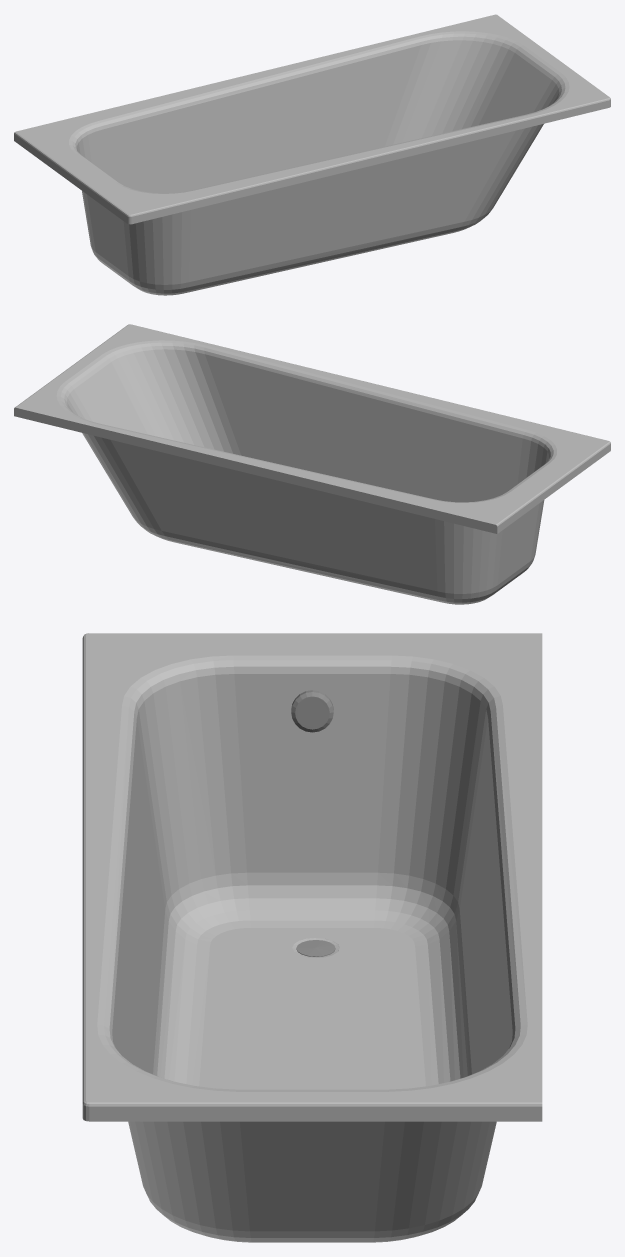
The model's file is AEC_29911.glb.
The picture shows the model from 3 angles, top to bottom: view 1: azimuth 30°, elevation 25°; view 2: azimuth 150°, elevation 25°; view 3: azimuth 270°, elevation 25°; orthographic projection. The views are drawn at different scales.
Parts seen in each view (by area): view 1: 0; view 2: 0; view 3: 0.
Part boxes in pixels (left/top/right/bottom): 0: left=14, top=14, right=610, bottom=295; 0: left=14, top=324, right=610, bottom=604; 0: left=82, top=633, right=542, bottom=1242.
Bounding box in the file's own units: 1.7 × 0.3999 × 0.7.
Materials: 1 (1 with a texture image).
